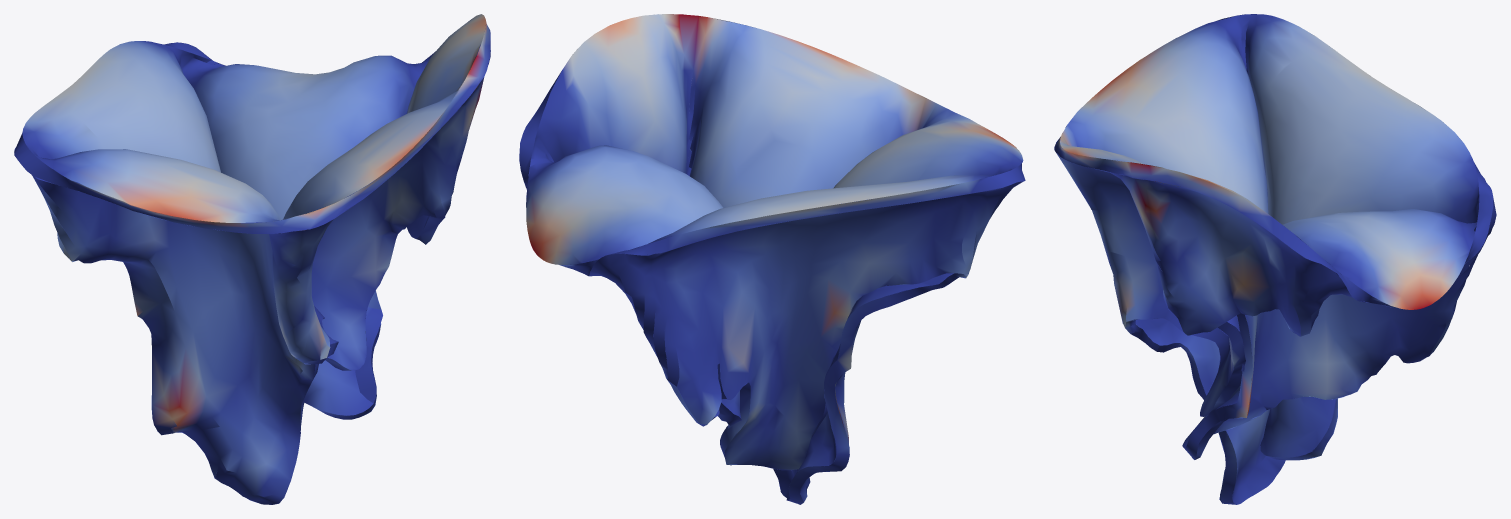
3 renders of one model, left to right at view 1: azimuth 30°, elevation 25°; view 2: azimuth 150°, elevation 25°; view 3: azimuth 270°, elevation 25°, orthographic. The views are drawn at different scales.
Visible parts, largest first — view 1: OCS14_maxS_12; view 2: OCS14_maxS_12; view 3: OCS14_maxS_12.
Part boxes in pixels (<box>): OCS14_maxS_12: <box>14,14,490,504</box>; OCS14_maxS_12: <box>519,14,1025,504</box>; OCS14_maxS_12: <box>1054,14,1496,504</box>.
Bounding box in the file's own units: 1.42 × 1.25 × 1.2.
